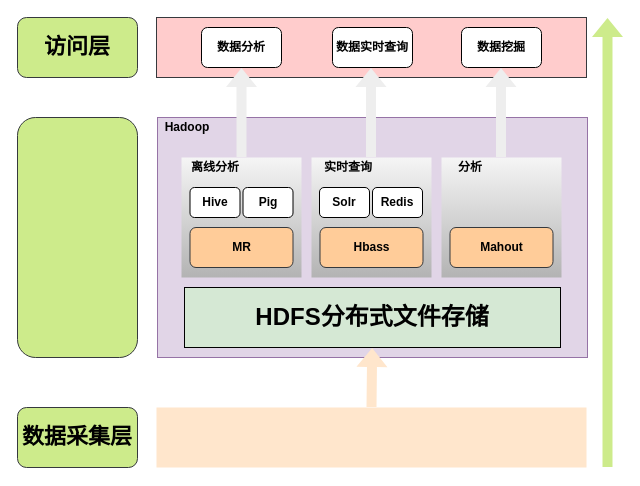
Image size: 640x486. Some labels were removed from this diagram. The centre of each missing label's shape, as x and y in pixels:
"大数据层" goes at [77,237].
"数据源" goes at [371,437].
